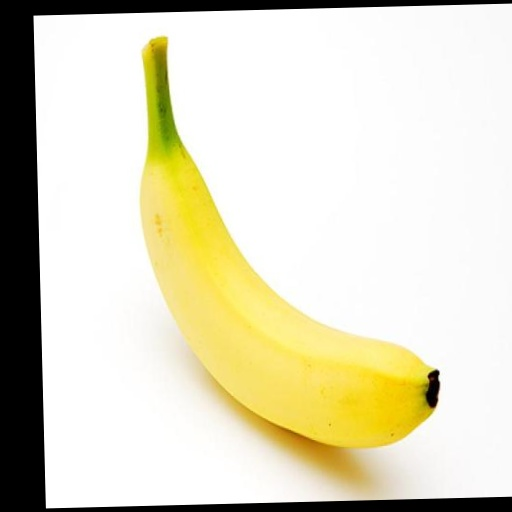fruit: (140, 38, 438, 446)
